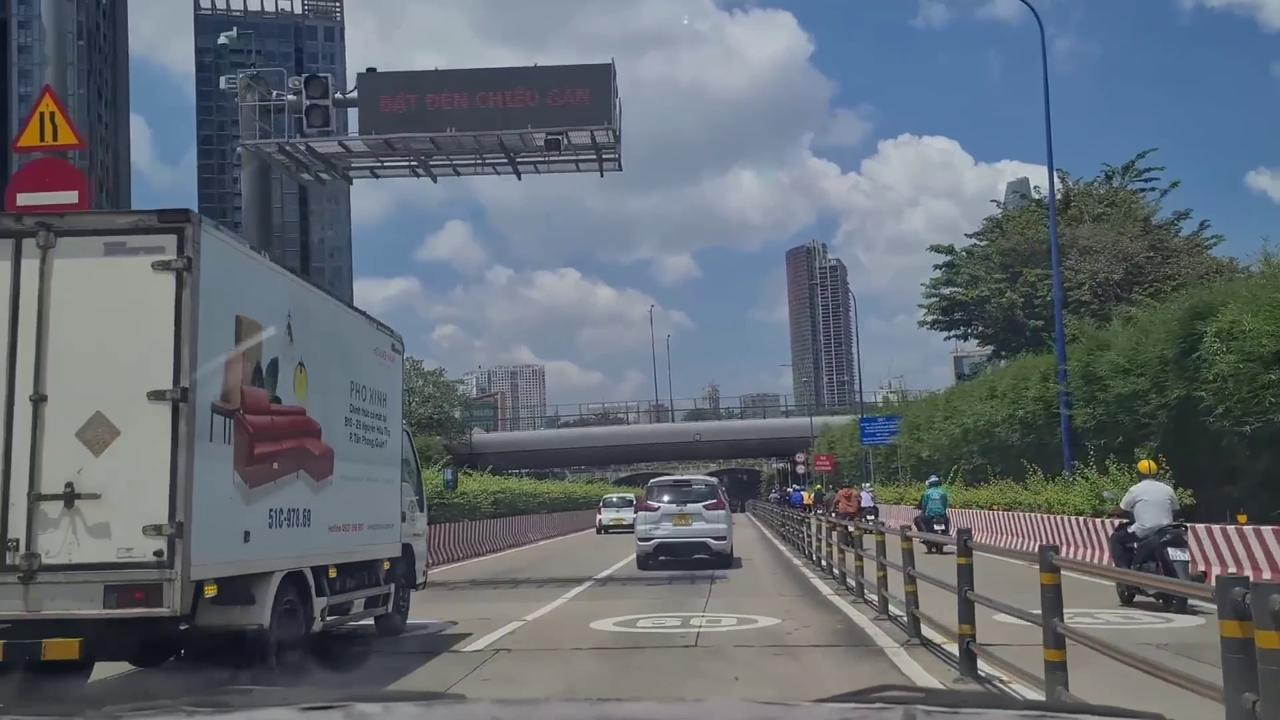Cấm đi ngược chiều: (2, 153, 97, 240)
Đuờng hẹp: (10, 82, 87, 152)
